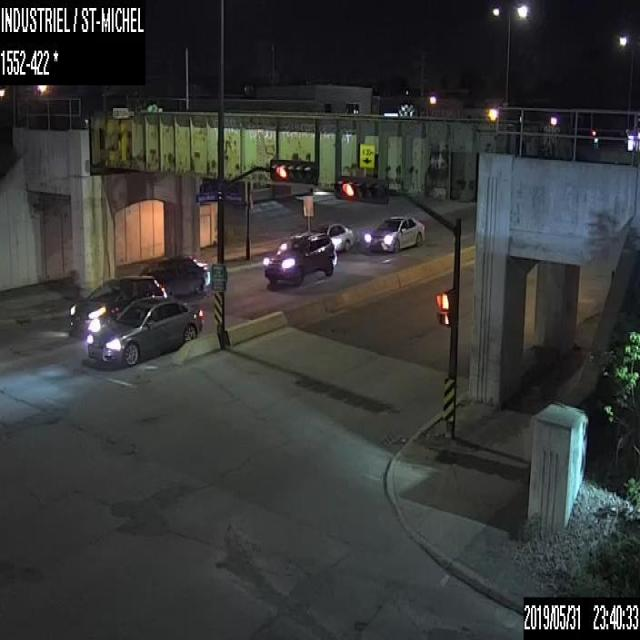vehicle: (85, 294, 203, 365), (67, 274, 167, 336), (262, 230, 336, 286), (130, 254, 210, 295), (362, 214, 424, 252), (309, 222, 353, 251)
